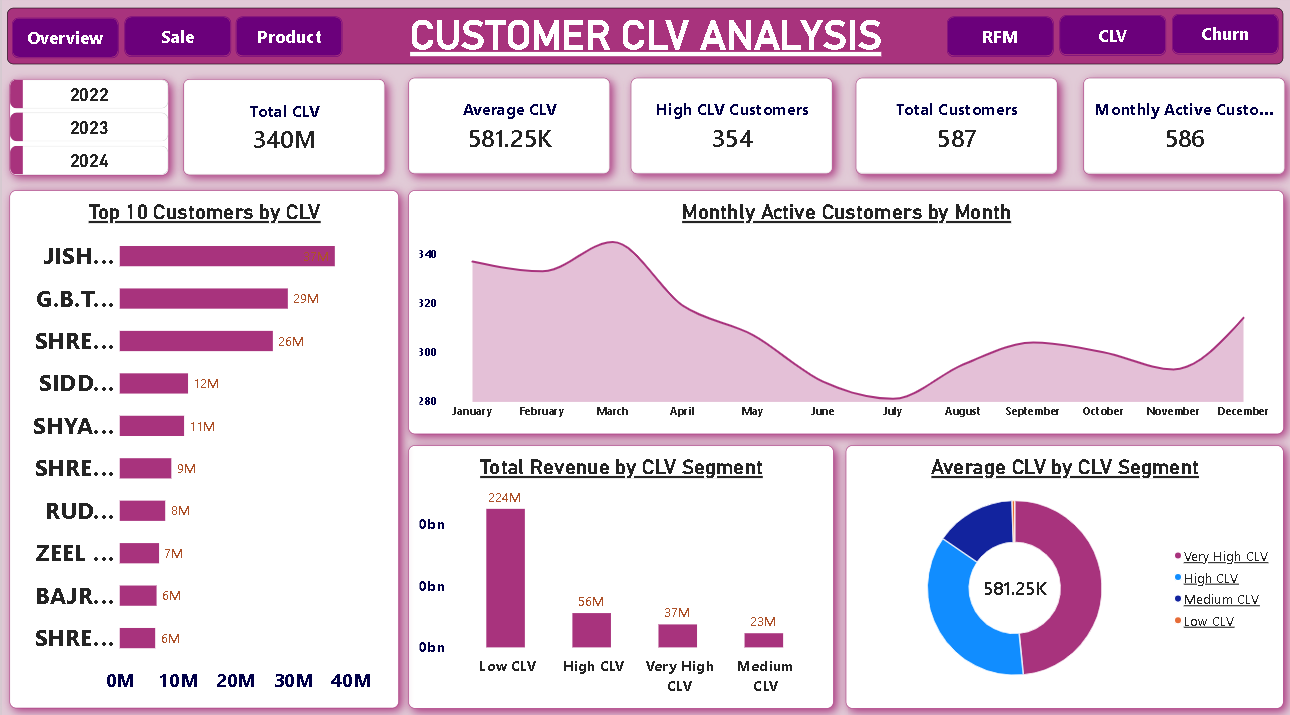

This screenshot's page, from the dashboard's own definition file:
{"tool":"powerbi","page":{"name":"CLV","canvas":[1920,1080],"ordinal":5},"visuals":[{"type":"columnChart","fields":{"Category":["RFM_Customer.CLV Segment"],"Y":["RFM_Customer.Total Revenue"]},"box":[603.1,671,631.9,391.1],"z":0},{"type":"clusteredBarChart","title":"Top 10 Customers by CLV","fields":{"Category":["RFM_Customer.Customer Name"],"Y":["Sum(RFM_Customer.Monetary)"]},"box":[10.3,292.3,578.4,769.8],"z":1000},{"type":"donutChart","fields":{"Category":["RFM_Customer.CLV Segment"],"Y":["RFM_Customer.Average CLV"]},"box":[1253.5,671,650.4,391.1],"z":2000},{"type":"textbox","title":" CUSTOMER CLV ANALYSIS   ","box":[8.2,20.6,1896,84],"z":3000},{"type":"cardVisual","fields":{"Data":["Master_Data.Total CLV"]},"box":[269.6,125.6,300,143],"z":4000},{"type":"cardVisual","fields":{"Data":["RFM_Customer.Average CLV"]},"box":[603.5,124.7,300,143],"z":5000},{"type":"cardVisual","fields":{"Data":["RFM_Customer.High CLV Customers"]},"box":[933.6,124.7,300,143],"z":6000},{"type":"cardVisual","title":"total","fields":{"Data":["Master_Data.Total Customers"]},"box":[1267.5,124.7,300,143.6],"z":7000},{"type":"cardVisual","fields":{"Data":["Master_Data.Monthly Active Customers"]},"box":[1605.7,124.5,300,143.6],"z":8000},{"type":"lineChart","fields":{"Category":["Master_Data.Bill Date.Variation.Date Hierarchy.Month"],"Y":["Master_Data.Monthly Active Customers"]},"box":[603.1,292.3,1300.9,362.3],"z":9000},{"type":"advancedSlicerVisual","fields":{"Values":["Master_Data.Bill Date.Variation.Date Hierarchy.Year"]},"box":[10.9,125.5,237,143],"z":10000},{"type":"actionButton","box":[14.4,35,158.5,59.7],"z":11000},{"type":"actionButton","box":[1737.2,28.8,158.5,59.7],"z":12000},{"type":"actionButton","box":[1570.5,30.9,158.5,59.7],"z":13000},{"type":"actionButton","box":[181.1,32.9,158.5,59.7],"z":14000},{"type":"actionButton","box":[347.9,32.9,158.5,59.7],"z":15000},{"type":"actionButton","box":[1403.8,32.9,158.5,59.7],"z":16000}]}

Visuals, with their boxes in screenshot pixels (x1, y1, x2, y2), scaled from the page's 1920x1080 canvas onto the 1290x715 screenshot:
columnChart - RFM_Customer.CLV Segment x RFM_Customer.Total Revenue: x1=405, y1=444, x2=830, y2=703
"Top 10 Customers by CLV" clusteredBarChart: x1=7, y1=194, x2=396, y2=703
donutChart - RFM_Customer.CLV Segment x RFM_Customer.Average CLV: x1=842, y1=444, x2=1279, y2=703
" CUSTOMER CLV ANALYSIS   " textbox: x1=6, y1=14, x2=1279, y2=69
cardVisual - Master_Data.Total CLV: x1=181, y1=83, x2=383, y2=178
cardVisual - RFM_Customer.Average CLV: x1=405, y1=83, x2=607, y2=177
cardVisual - RFM_Customer.High CLV Customers: x1=627, y1=83, x2=829, y2=177
"total" cardVisual: x1=852, y1=83, x2=1053, y2=178
cardVisual - Master_Data.Monthly Active Customers: x1=1079, y1=82, x2=1280, y2=177
lineChart - Master_Data.Bill Date.Variation.Date Hierarchy.Month x Master_Data.Monthly Active Customers: x1=405, y1=194, x2=1279, y2=433
advancedSlicerVisual - Master_Data.Bill Date.Variation.Date Hierarchy.Year: x1=7, y1=83, x2=167, y2=178
actionButton: x1=10, y1=23, x2=116, y2=63
actionButton: x1=1167, y1=19, x2=1274, y2=59
actionButton: x1=1055, y1=20, x2=1162, y2=60
actionButton: x1=122, y1=22, x2=228, y2=61
actionButton: x1=234, y1=22, x2=340, y2=61
actionButton: x1=943, y1=22, x2=1050, y2=61
